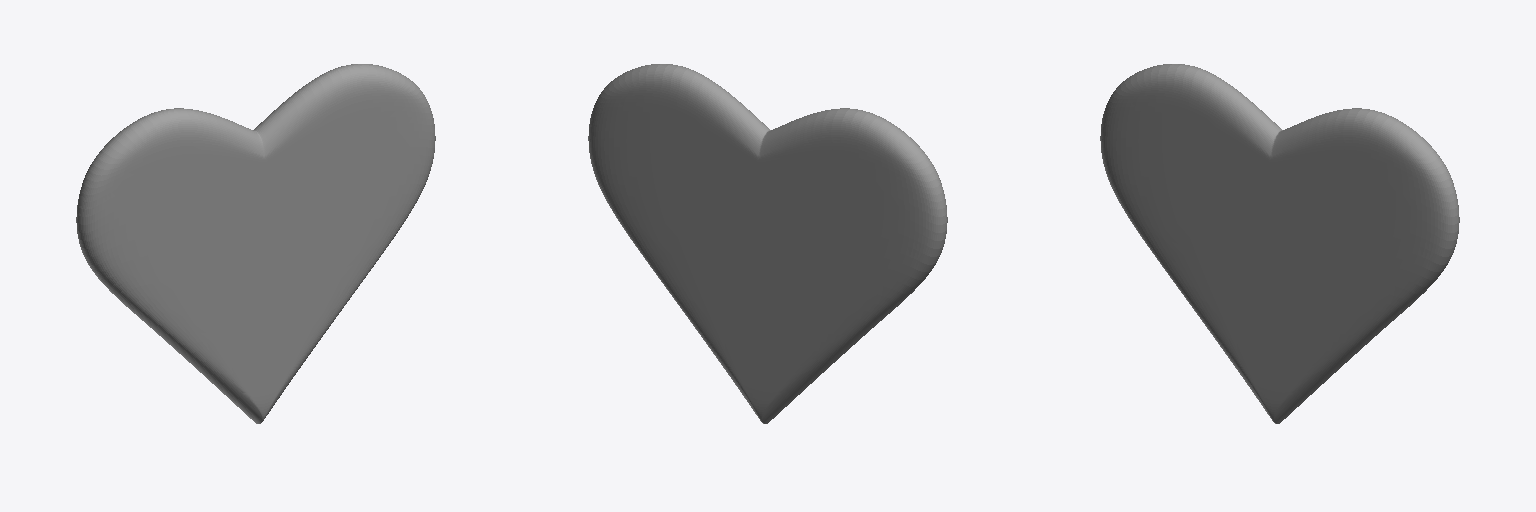
Rendered from HEARTOBJ.obj.
3 renders of one model, left to right at view 1: azimuth 30°, elevation 25°; view 2: azimuth 150°, elevation 25°; view 3: azimuth 330°, elevation 25°, orthographic.
Parts seen in each view (by area): view 1: heart; view 2: heart; view 3: heart.
Part boxes in pixels (left/top/right/bottom): heart: left=76, top=64, right=435, bottom=423; heart: left=588, top=64, right=947, bottom=423; heart: left=1100, top=64, right=1459, bottom=423.
Bounding box in the file's own units: 2.83 × 2.54 × 0.2491.